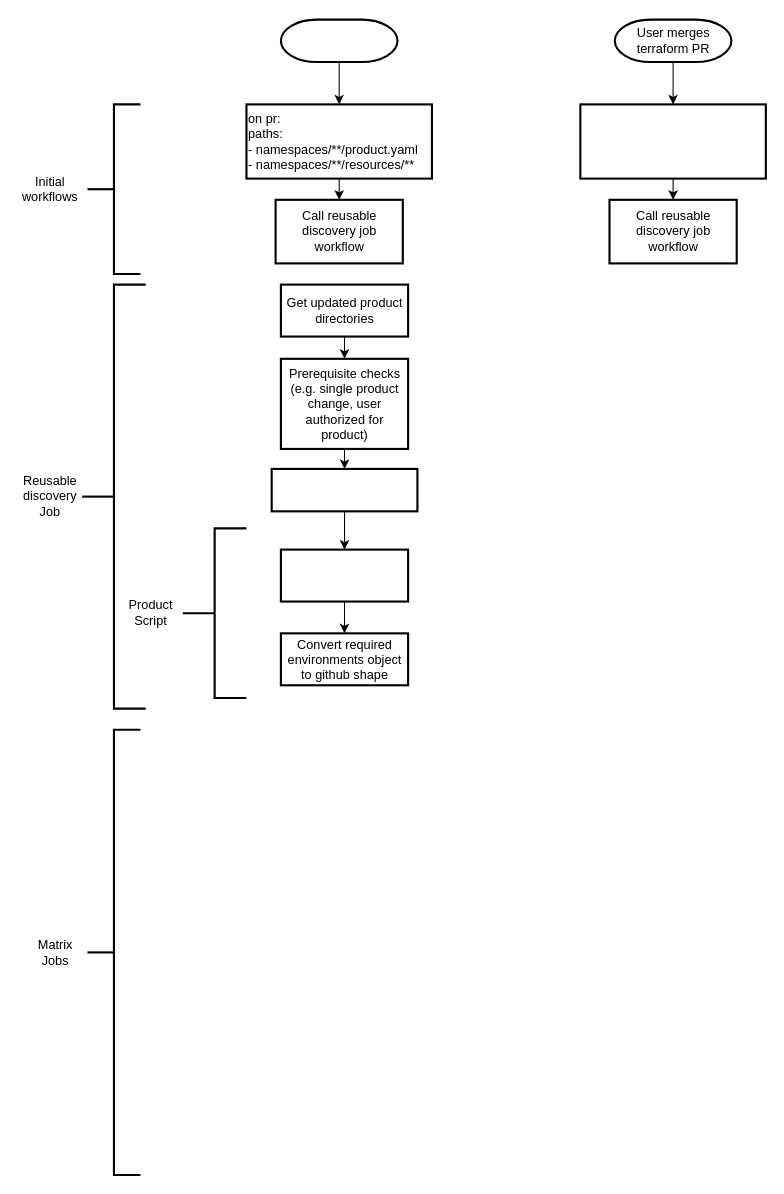
This 784x1194 diagram has some shape labels left out. The shapes that lost their labels are listed below. From the top down, each one's centre as x and y in pixels, then its label:
At [338,40]: "User raises terraform PR".
At [672,141]: "on push: main paths: - namespaces/**/product.yaml - namespaces/**/resources/**".
At [344,489]: "Validate product.yaml with YAML schema".
At [344,575]: "Discover required environments from product.yaml".
